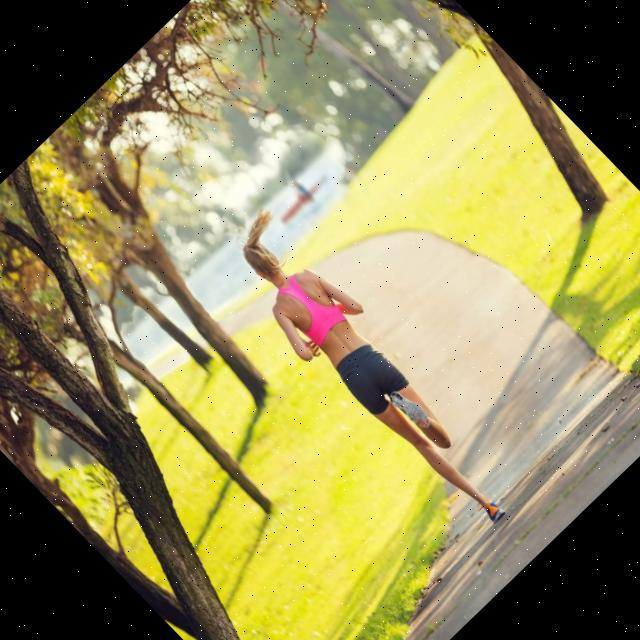Person: (208, 204, 538, 542)
